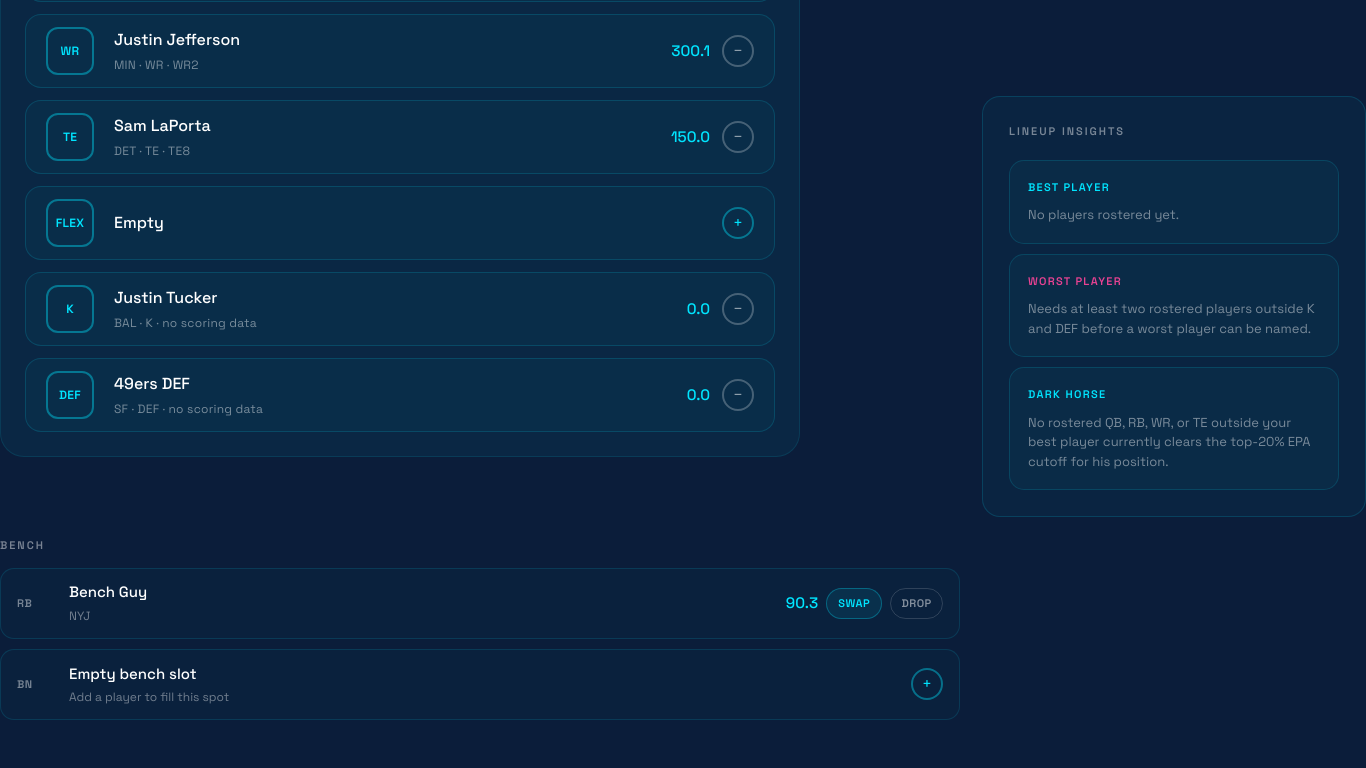
Test: ViewLineupPanel › shows an error toast and keeps the overlay open when an add-player request fails
(page scrolled)
Expected: the text "Empty bench slot" is shown, [69,664,197,683]
Click the button named "Add player to bench".
click(927, 684)  # box [911,668,943,700]
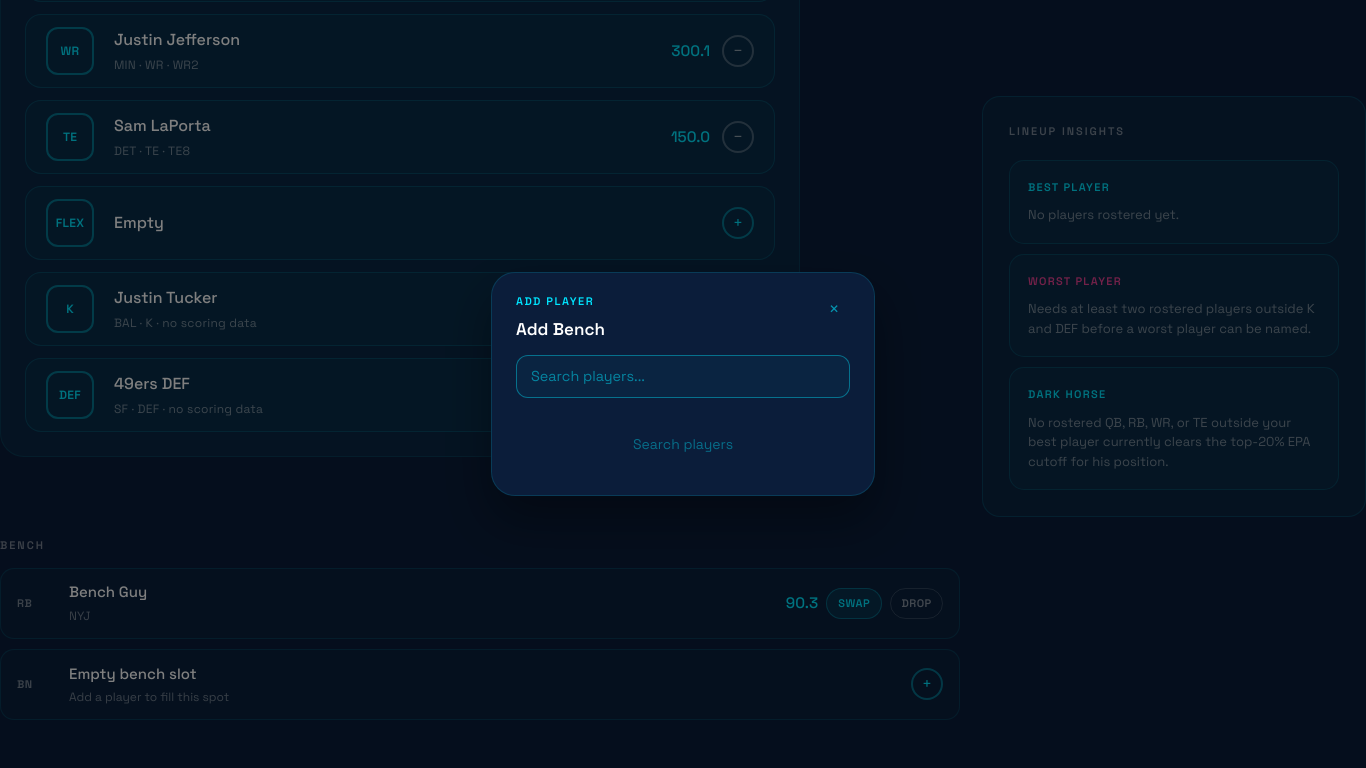
Expected: the text "Add Bench" is shown, [516,317,605,343]
Type "Free Agent" into the field with placeholder "Search players...".
click(683, 376); type("Free Agent")  # box [516,355,850,398]
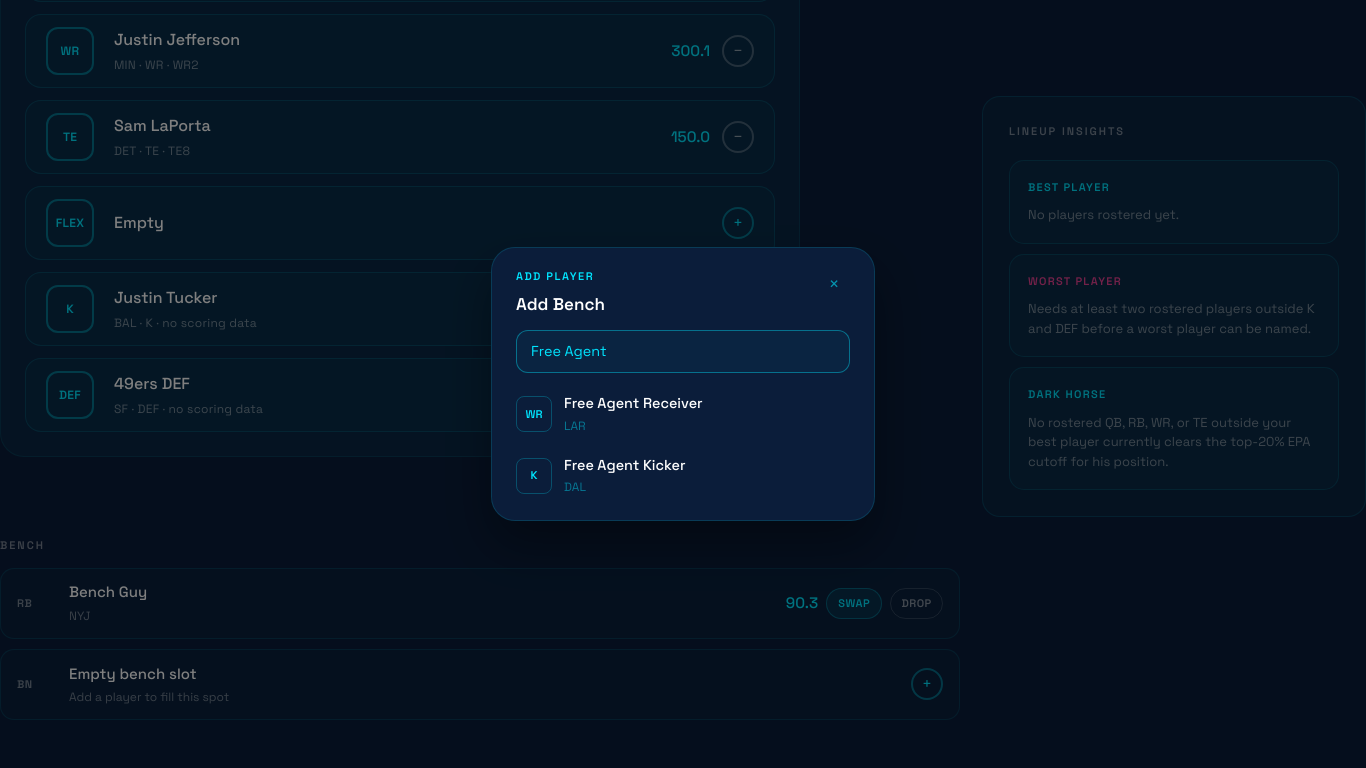
Expected: the text "Free Agent Kicker" is shown
Click the text "Free Agent Kicker".
click(625, 466)  # box [564,455,686,476]
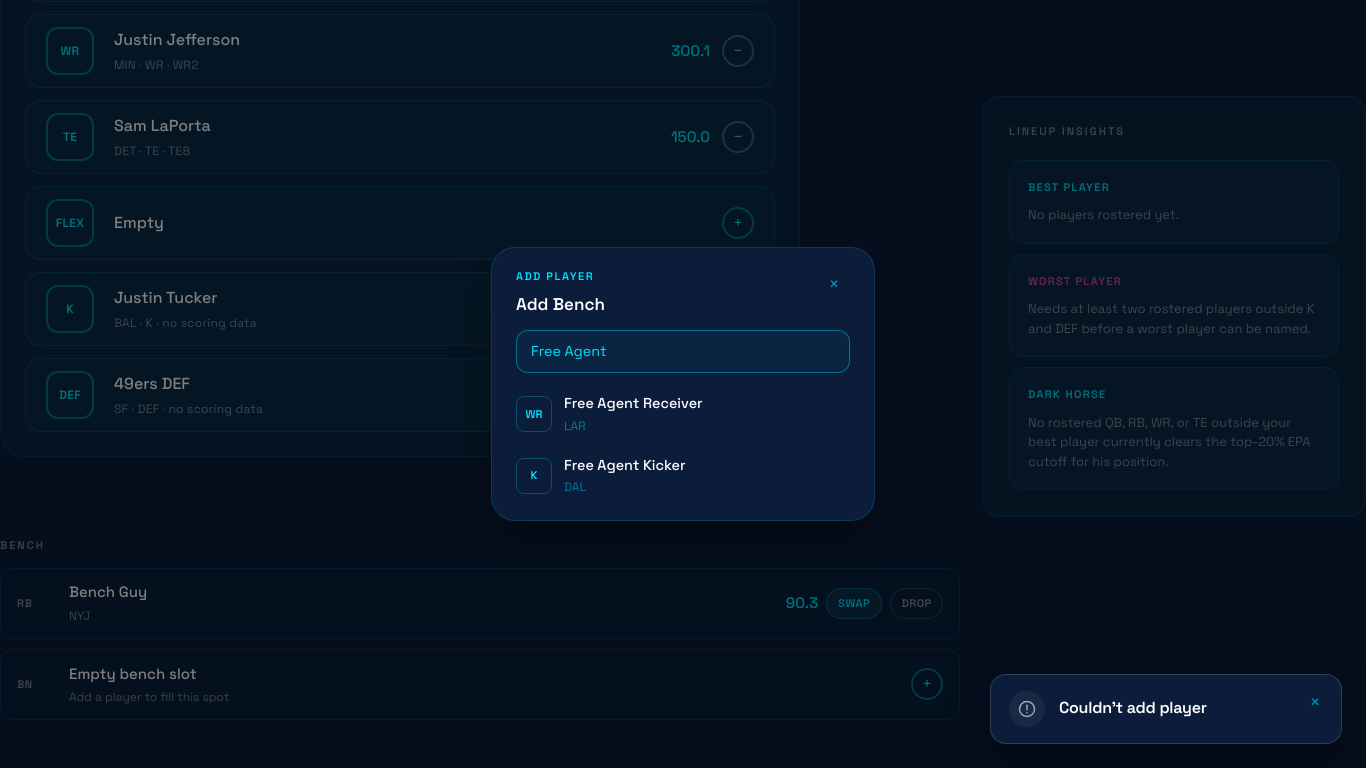
Expected: the text "Add Bench" is shown, [516,292,605,318]
Expected: the text "Couldn't add player" is shown, [1059,698,1207,718]
